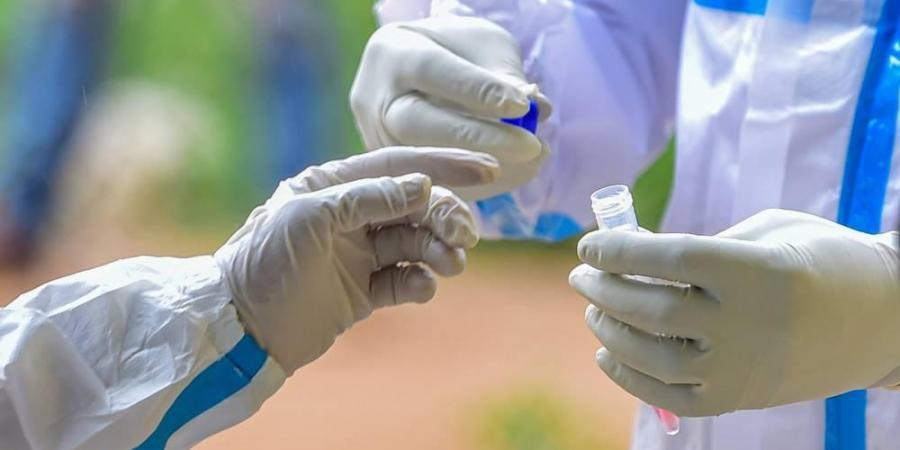Gloves On: (570, 209, 900, 417), (214, 148, 499, 374), (350, 16, 548, 191)
Suit On: (376, 0, 900, 240), (633, 390, 900, 448)
